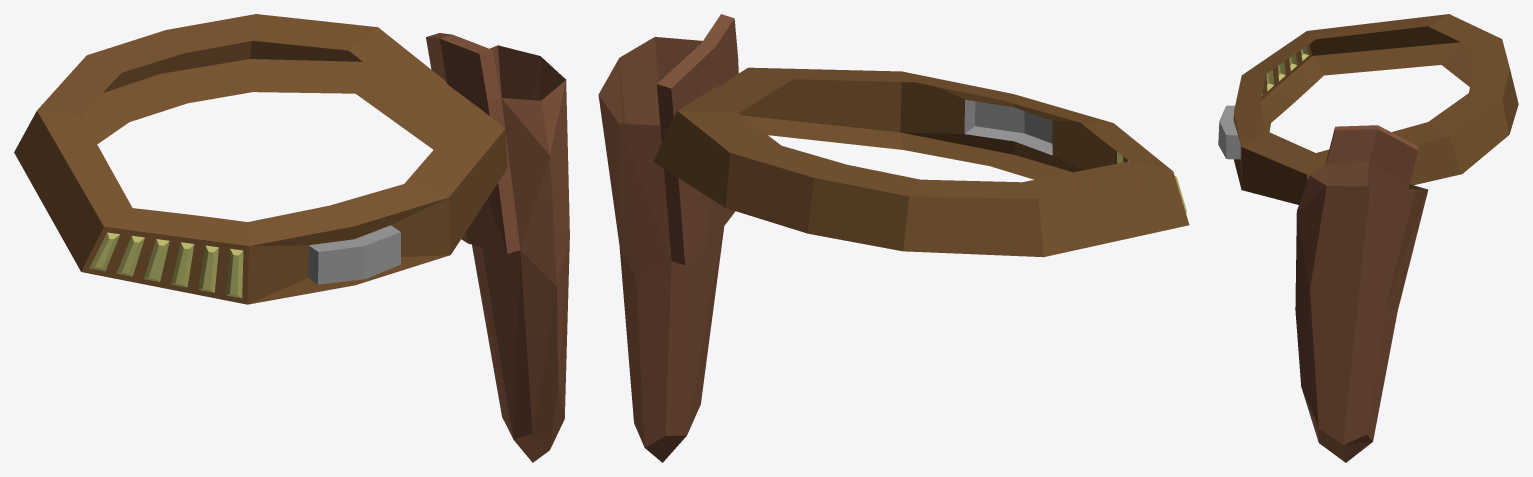
Rendered from Sheriff_GunslingerBelt.fbx.
3 renders of one model, left to right at view 1: azimuth 30°, elevation 25°; view 2: azimuth 150°, elevation 25°; view 3: azimuth 270°, elevation 25°, orthographic. The views are drawn at different scales.
Visible parts, largest first — view 1: Sheriff_GunslingerBelt; view 2: Sheriff_GunslingerBelt; view 3: Sheriff_GunslingerBelt.
Boxes of the visible parts, left/top/right/bottom form: Sheriff_GunslingerBelt: left=14, top=14, right=569, bottom=462; Sheriff_GunslingerBelt: left=598, top=14, right=1189, bottom=462; Sheriff_GunslingerBelt: left=1218, top=14, right=1518, bottom=462.
Bounding box in the file's own units: 32.38 × 26.68 × 23.03.
